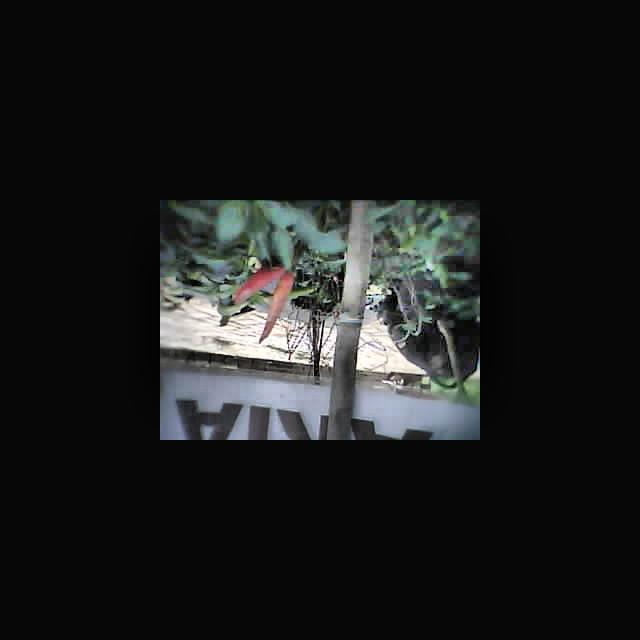Cabai: (259, 271, 292, 346), (236, 262, 288, 300)
